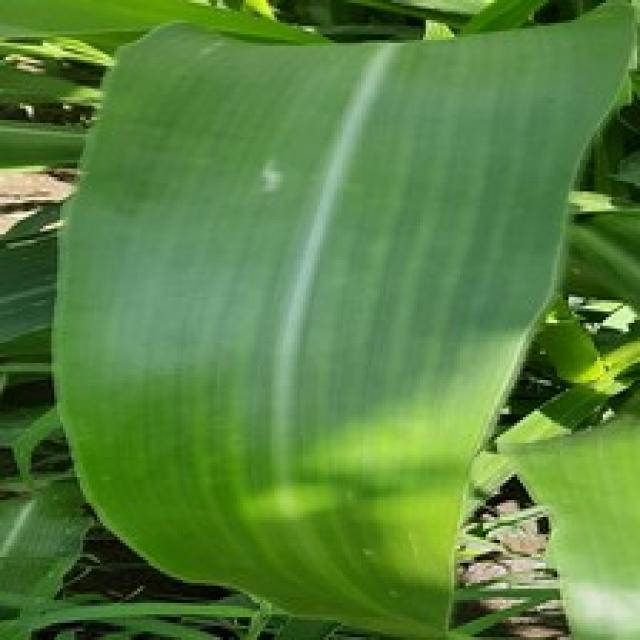Corn: (46, 0, 637, 637), (494, 403, 637, 637), (0, 0, 326, 49)
